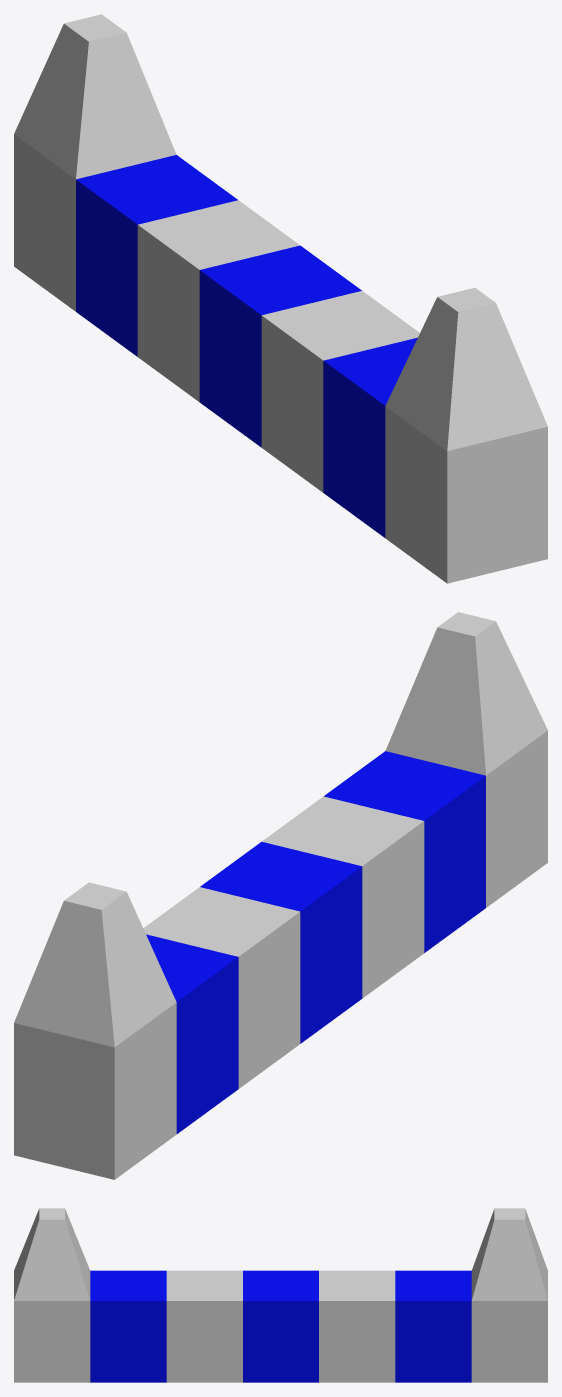
The model's file is rao_chan_2.fbx.
The picture shows the model from 3 angles, top to bottom: view 1: azimuth 30°, elevation 25°; view 2: azimuth 150°, elevation 25°; view 3: azimuth 270°, elevation 25°; orthographic projection. The views are drawn at different scales.
Visible parts, largest first — view 1: Cube; view 2: Cube; view 3: Cube.
Boxes of the visible parts, bbox=[...] form: Cube: bbox=[14, 14, 547, 583]; Cube: bbox=[14, 612, 547, 1179]; Cube: bbox=[14, 1208, 547, 1382].
Size of the model in its own units: 159 by 376 by 1186.
